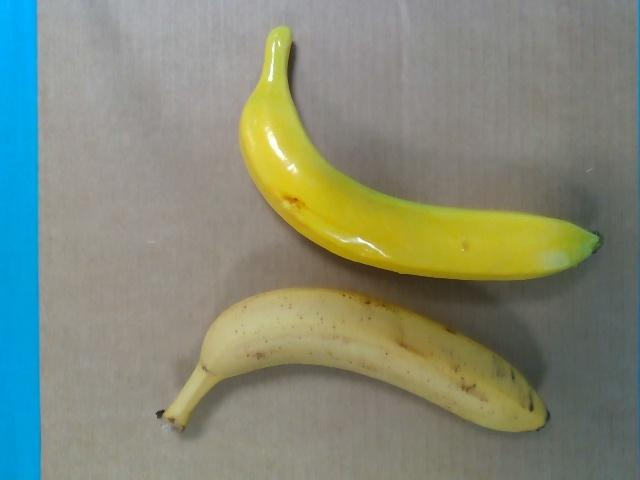banana: (238, 25, 603, 280), (159, 287, 549, 435)
